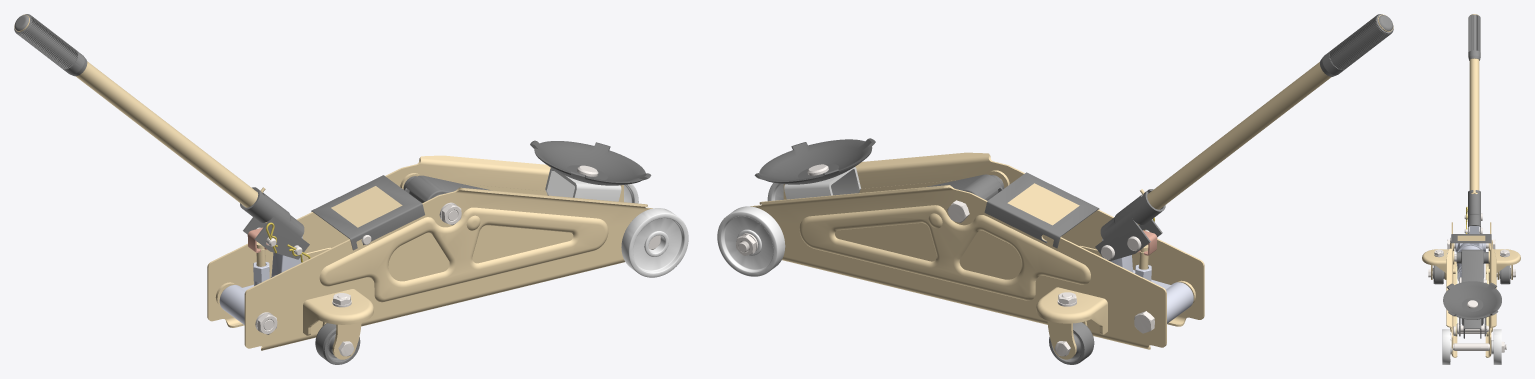
Rendered from GLTFMOdel.glb.
3 renders of one model, left to right at view 1: azimuth 30°, elevation 25°; view 2: azimuth 150°, elevation 25°; view 3: azimuth 270°, elevation 25°, orthographic. The views are drawn at different scales.
Parts seen in each view (by area): view 1: Part 2, Part 21, Part 11.001, Part 9, Object.005, Part 6, Part 12, Object.006, Object.002, Part 7, Part 5, Part 10.001 (+1 smaller); view 2: Part 2, Part 21, Part 9, Part 11, Object.005, Part 6, Part 12, Object.006, Part 7, Object.002, Part 5, Part 10 (+1 smaller); view 3: Part 2, Part 9, Part 21, Part 5, Part 12, Part 6, Object.002, Part 11, Part 11.001, spring pin slotted_hd_iso.003, Object.005, Part 10 (+5 smaller).
Boxes of the visible parts, x1,y1,x2,y2 form: Part 2: (207, 155, 652, 350); Part 21: (14, 14, 267, 222); Part 11.001: (621, 208, 688, 277); Part 9: (530, 140, 651, 185); Object.005: (311, 175, 424, 250); Part 6: (240, 187, 309, 259); Part 12: (14, 14, 87, 76); Object.006: (331, 186, 402, 227); Object.002: (219, 236, 303, 324); Part 7: (545, 168, 621, 201); Part 5: (403, 175, 490, 203); Part 10.001: (315, 323, 360, 364); Part 2: (750, 152, 1204, 349); Part 21: (1138, 14, 1393, 224); Part 9: (754, 138, 875, 184); Part 11: (717, 206, 785, 276); Object.005: (984, 172, 1099, 248); Part 6: (1095, 189, 1165, 261); Part 12: (1320, 14, 1393, 76); Object.006: (1007, 183, 1079, 225); Part 7: (784, 167, 860, 199); Object.002: (1102, 239, 1193, 323); Part 5: (925, 174, 1004, 200); Part 10: (1049, 322, 1094, 364); Part 2: (1422, 222, 1520, 357); Part 9: (1443, 281, 1501, 319); Part 21: (1469, 14, 1479, 193); Part 5: (1456, 249, 1488, 338); Part 12: (1468, 14, 1480, 60); Part 6: (1468, 190, 1480, 233); Object.002: (1455, 226, 1485, 281); Part 11: (1491, 329, 1501, 364); Part 11.001: (1442, 329, 1452, 364); spring pin slotted_hd_iso.003: (1453, 343, 1489, 350); Object.005: (1451, 234, 1491, 248); Part 10: (1499, 265, 1510, 284).
Size of the model in its own units: 0.6946 by 0.4015 by 0.18.
